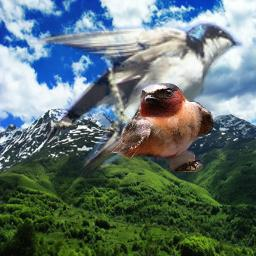Swallow: (27, 19, 243, 184), (106, 83, 213, 172)
